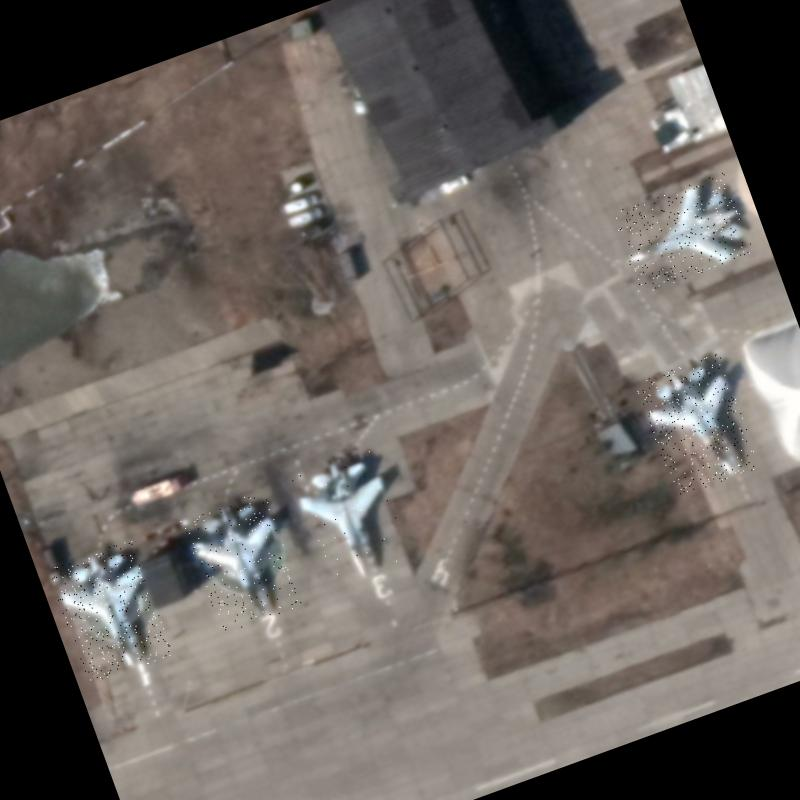A1: (285, 444, 413, 592), (47, 538, 174, 685), (634, 352, 760, 497), (180, 489, 305, 634), (609, 171, 754, 295)
